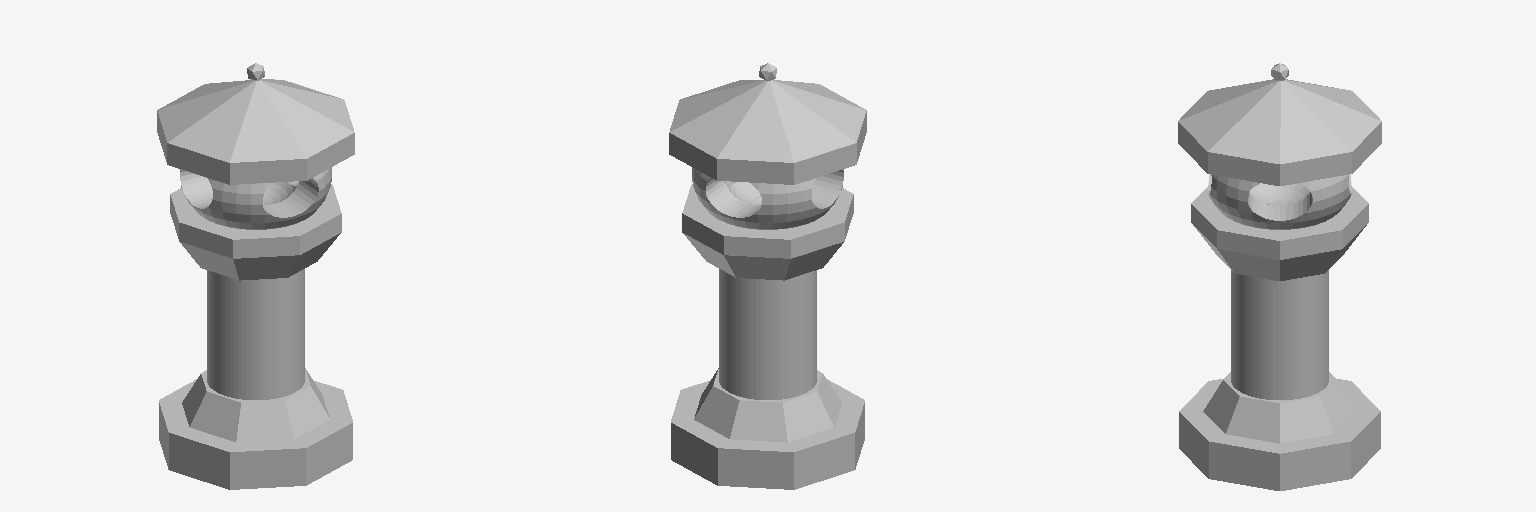
3 views of the same model, side by side, from view 1: azimuth 30°, elevation 25°; view 2: azimuth 150°, elevation 25°; view 3: azimuth 270°, elevation 25° (orthographic).
Visible parts, largest first — view 1: Cylinder.003, Cylinder.002, toshogu_Cylinder, Cylinder.004, Cylinder.001, Sphere; view 2: Cylinder.003, Cylinder.002, toshogu_Cylinder, Cylinder.004, Cylinder.001, Sphere; view 3: Cylinder.003, Cylinder.002, toshogu_Cylinder, Cylinder.004, Cylinder.001, Sphere.
Boxes of the visible parts, x1,y1,x2,y2 form: Cylinder.003: [157, 79, 354, 184]; Cylinder.002: [207, 269, 304, 399]; toshogu_Cylinder: [159, 379, 352, 489]; Cylinder.004: [170, 184, 341, 280]; Cylinder.001: [182, 368, 329, 442]; Sphere: [180, 167, 331, 229]; Cylinder.003: [669, 80, 866, 184]; Cylinder.002: [719, 269, 816, 399]; toshogu_Cylinder: [671, 379, 864, 489]; Cylinder.004: [682, 184, 853, 280]; Cylinder.001: [694, 368, 841, 442]; Sphere: [692, 167, 843, 229]; Cylinder.003: [1178, 79, 1381, 185]; Cylinder.002: [1231, 270, 1328, 399]; toshogu_Cylinder: [1179, 379, 1380, 490]; Cylinder.004: [1191, 187, 1368, 280]; Cylinder.001: [1203, 372, 1356, 443]; Sphere: [1208, 174, 1351, 229].
Size of the model in its own units: 1.77 by 3.67 by 1.77.